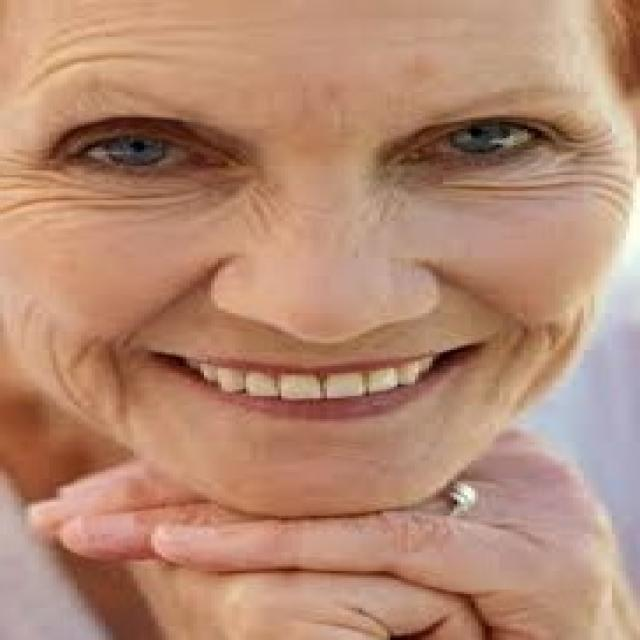Wrinkles: (2, 187, 198, 214), (44, 28, 198, 57), (32, 57, 183, 85), (461, 182, 636, 198), (37, 199, 195, 212), (526, 172, 630, 185), (465, 195, 555, 200)
